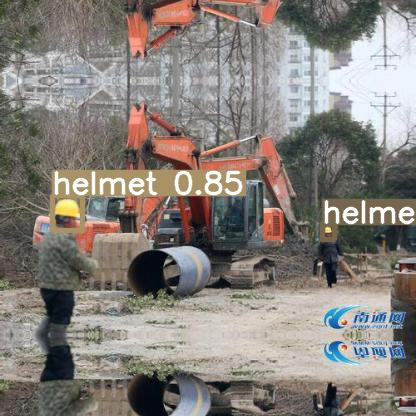helmet: (52, 195, 82, 230), (322, 224, 334, 239)
